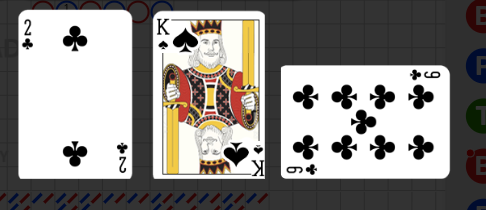2C: (114, 140, 129, 175)
9C: (285, 162, 320, 177), (407, 68, 442, 83)
